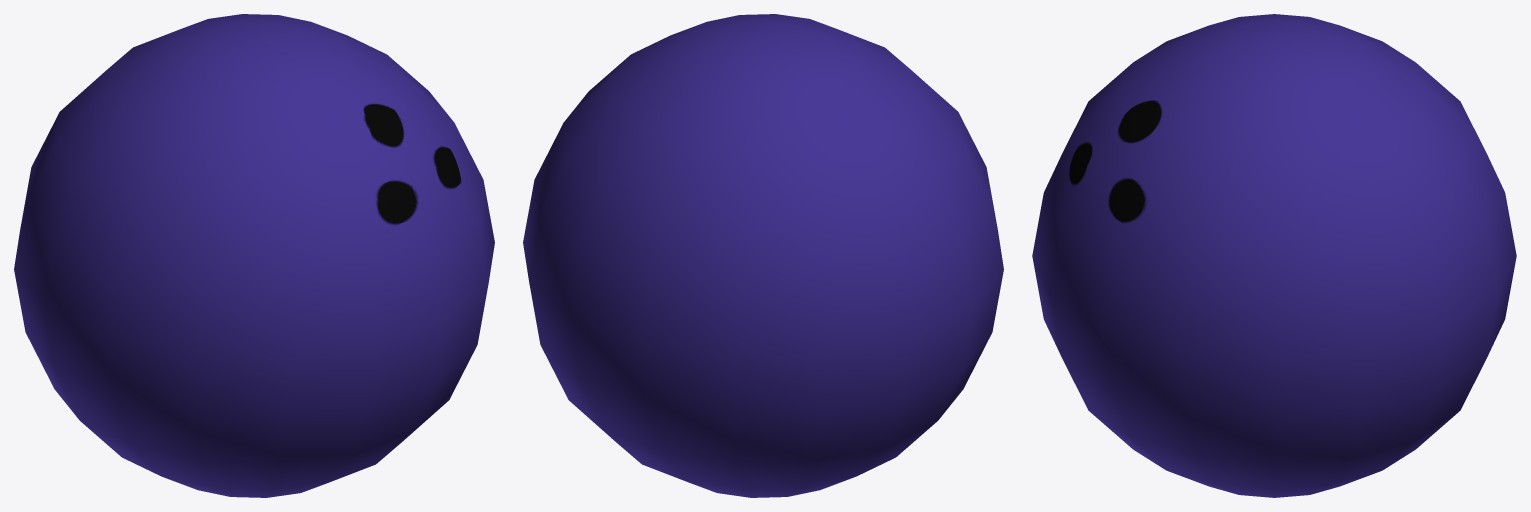
Rendered from texiaoqiuD.FBX.
3 renders of one model, left to right at view 1: azimuth 30°, elevation 25°; view 2: azimuth 150°, elevation 25°; view 3: azimuth 270°, elevation 25°, orthographic.
Parts seen in each view (by area): view 1: texiaoqiuD; view 2: texiaoqiuD; view 3: texiaoqiuD.
Boxes of the visible parts, x1,y1,x2,y2 form: texiaoqiuD: (14,14,494,497); texiaoqiuD: (523,14,1003,497); texiaoqiuD: (1032,14,1516,497).
Bounding box in the file's own units: 563 × 563 × 563.
1 material, 1 textured.
